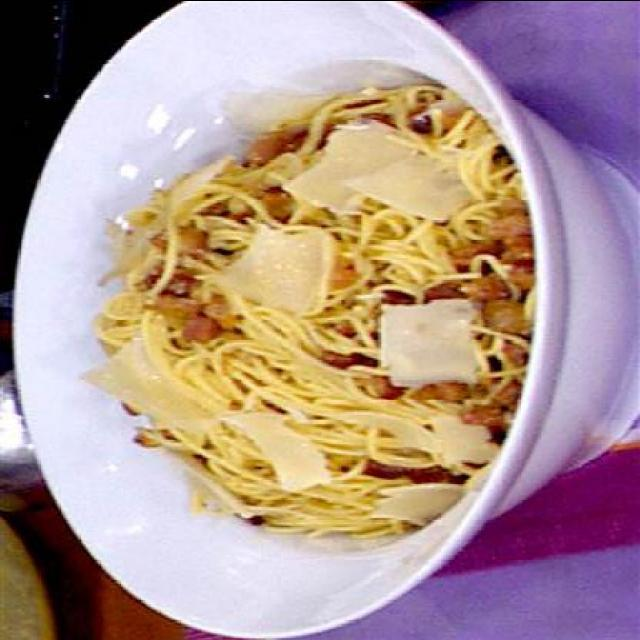Pasta with carbonara sauce: (73, 77, 569, 523)
